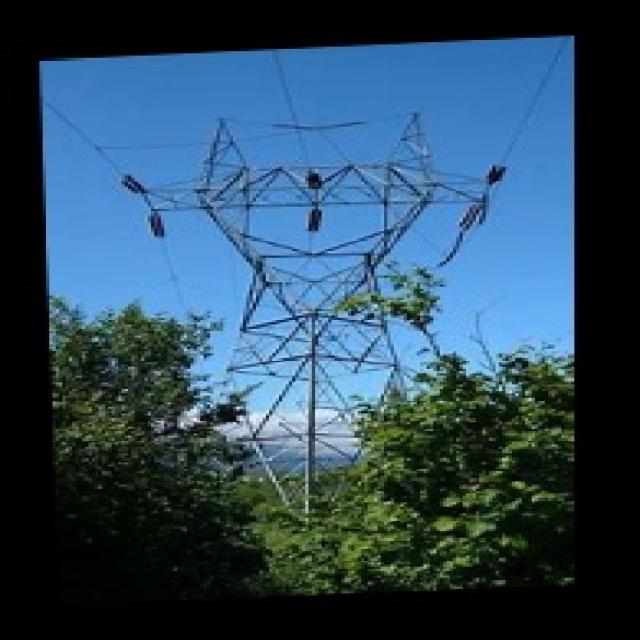utility poles: (334, 262, 527, 406), (139, 300, 295, 454)
